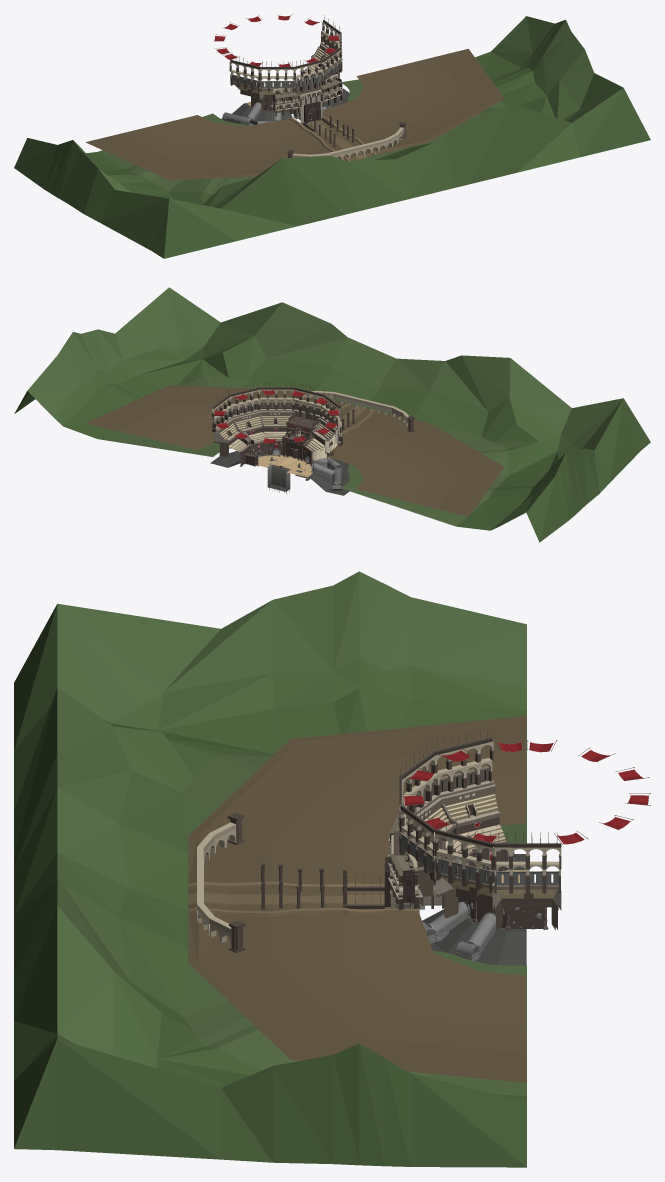
Rendered from narrowArena.glb.
3 renders of one model, top to bottom at view 1: azimuth 30°, elevation 25°; view 2: azimuth 150°, elevation 25°; view 3: azimuth 270°, elevation 25°, orthographic. The views are drawn at different scales.
Visible parts, largest first — view 1: Plane.1023, floor.002, Plane.5452, outerDecoration.452; view 2: Plane.1023, floor.002, floor, Plane.5452, Plane.5730, outerDecoration.452, Plane.979, Plane.980; view 3: Plane.1023, floor.002, Plane.5452, Plane.982, outerDecoration.452, Plane.5730.
Part boxes in pixels (x1,y1,x2,y2): Plane.1023: [14, 16, 650, 258]; floor.002: [85, 48, 504, 180]; Plane.5452: [221, 88, 349, 124]; outerDecoration.452: [292, 127, 404, 157]; Plane.1023: [14, 287, 650, 542]; floor.002: [85, 385, 504, 516]; floor: [258, 455, 311, 491]; Plane.5452: [210, 451, 349, 495]; Plane.5730: [216, 411, 337, 443]; outerDecoration.452: [302, 391, 409, 421]; Plane.979: [260, 409, 292, 427]; Plane.980: [232, 409, 262, 432]; Plane.1023: [14, 571, 526, 1167]; floor.002: [188, 716, 526, 1082]; Plane.5452: [395, 854, 526, 965]; Plane.982: [439, 780, 500, 827]; outerDecoration.452: [197, 822, 235, 934]; Plane.5730: [404, 783, 558, 891].
Size of what is drawn, in the model's own units: 432 by 66.03 by 231.
